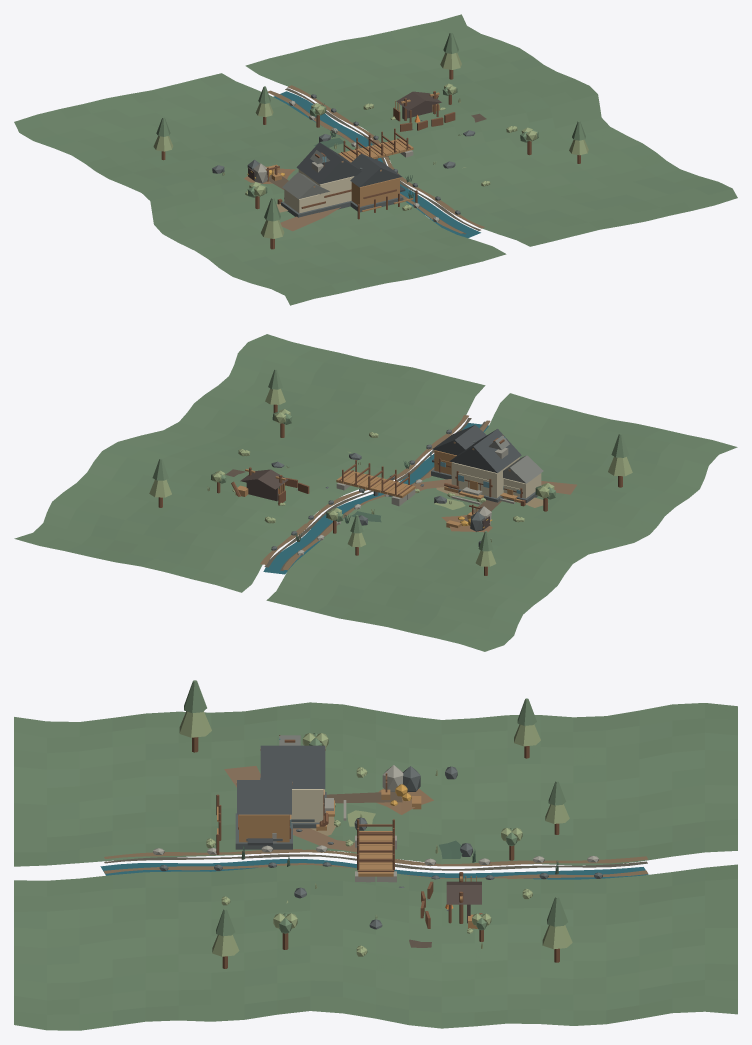
Rendered from barrosan_original_kit_v0376.glb.
3 views of the same model, one above another, from view 1: azimuth 30°, elevation 25°; view 2: azimuth 150°, elevation 25°; view 3: azimuth 270°, elevation 25° (orthographic). The views are drawn at different scales.
Visible parts, largest first — view 1: Original_Grass_Terrain_East, Original_Grass_Terrain_West, Recessed_Curved_Stream_Water, Main_Hall_Slate_Gable_Roof, Field_Barracks_Slate_Gable_Roof, Field_Barracks_Limewashed_Walls, Main_Hall_Limewashed_Walls, Raised_Stream_Bank_East, Barrosan_House_Slate_Gable_Roof, Raised_Stream_Bank_West, Camp_Command_Canopy_Roof, Wet_Sloped_Bank_East (+2 smaller); view 2: Original_Grass_Terrain_East, Original_Grass_Terrain_West, Recessed_Curved_Stream_Water, Main_Hall_Slate_Gable_Roof, Main_Hall_Limewashed_Walls, Raised_Stream_Bank_East, Field_Barracks_Slate_Gable_Roof, Barrosan_House_Slate_Gable_Roof, Wet_Sloped_Bank_East, Camp_Command_Canopy_Roof, Embedded_Worn_Road_West; view 3: Original_Grass_Terrain_East, Original_Grass_Terrain_West, Recessed_Curved_Stream_Water, Main_Hall_Slate_Gable_Roof, Field_Barracks_Slate_Gable_Roof, Raised_Stream_Bank_West, Wet_Sloped_Bank_West, Field_Barracks_Limewashed_Walls, Raised_Stream_Bank_East, Embedded_Worn_Road_West, Main_Hall_Limewashed_Walls, Camp_Command_Canopy_Roof (+3 smaller).
Part boxes in pixels (x1,y1,x2,y2): Original_Grass_Terrain_East: (245, 14, 737, 246); Original_Grass_Terrain_West: (14, 73, 506, 305); Recessed_Curved_Stream_Water: (273, 91, 480, 237); Main_Hall_Slate_Gable_Roof: (296, 142, 361, 184); Field_Barracks_Slate_Gable_Roof: (350, 153, 401, 187); Field_Barracks_Limewashed_Walls: (351, 177, 399, 206); Main_Hall_Limewashed_Walls: (298, 169, 354, 208); Raised_Stream_Bank_East: (287, 85, 484, 228); Barrosan_House_Slate_Gable_Roof: (282, 172, 329, 199); Raised_Stream_Bank_West: (268, 90, 463, 233); Camp_Command_Canopy_Roof: (396, 91, 441, 110); Wet_Sloped_Bank_East: (285, 88, 480, 230); Original_Grass_Terrain_East: (14, 334, 485, 592); Original_Grass_Terrain_West: (266, 393, 737, 651); Recessed_Curved_Stream_Water: (263, 423, 488, 574); Main_Hall_Slate_Gable_Roof: (449, 429, 521, 472); Main_Hall_Limewashed_Walls: (451, 457, 519, 498); Raised_Stream_Bank_East: (260, 415, 468, 564); Field_Barracks_Slate_Gable_Roof: (432, 425, 486, 455); Barrosan_House_Slate_Gable_Roof: (503, 455, 543, 483); Wet_Sloped_Bank_East: (264, 417, 471, 567); Camp_Command_Canopy_Roof: (240, 469, 288, 489); Embedded_Worn_Road_West: (412, 479, 576, 494); Original_Grass_Terrain_East: (14, 864, 737, 1030); Original_Grass_Terrain_West: (14, 702, 737, 866); Recessed_Curved_Stream_Water: (100, 859, 648, 879); Main_Hall_Slate_Gable_Roof: (260, 745, 325, 788); Field_Barracks_Slate_Gable_Roof: (237, 780, 291, 814); Raised_Stream_Bank_West: (104, 849, 647, 866); Wet_Sloped_Bank_West: (104, 854, 647, 870); Field_Barracks_Limewashed_Walls: (239, 814, 289, 842); Raised_Stream_Bank_East: (104, 863, 648, 878); Embedded_Worn_Road_West: (224, 766, 356, 852); Main_Hall_Limewashed_Walls: (291, 789, 323, 822); Camp_Command_Canopy_Roof: (446, 881, 481, 904).
Size of the model in its own units: 51.29 by 5.79 by 48.
